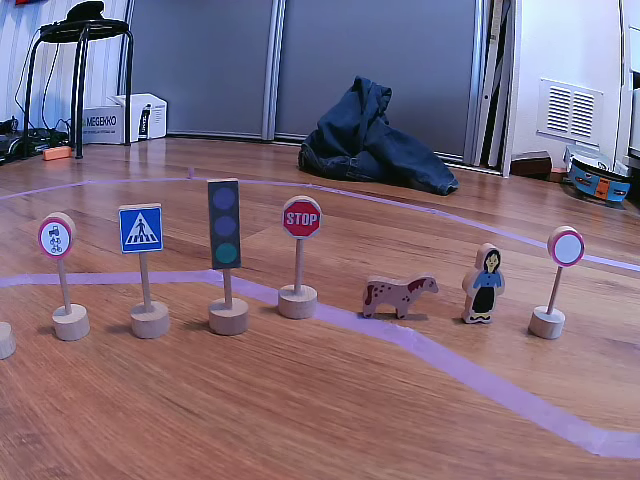fietspad: (38, 215, 71, 260)
groenlicht: (208, 179, 241, 272)
mens: (463, 245, 504, 324)
paard: (362, 276, 441, 320)
stopbord: (283, 198, 320, 240)
wegdicht: (551, 230, 585, 268)
zebrapad: (119, 204, 162, 253)
